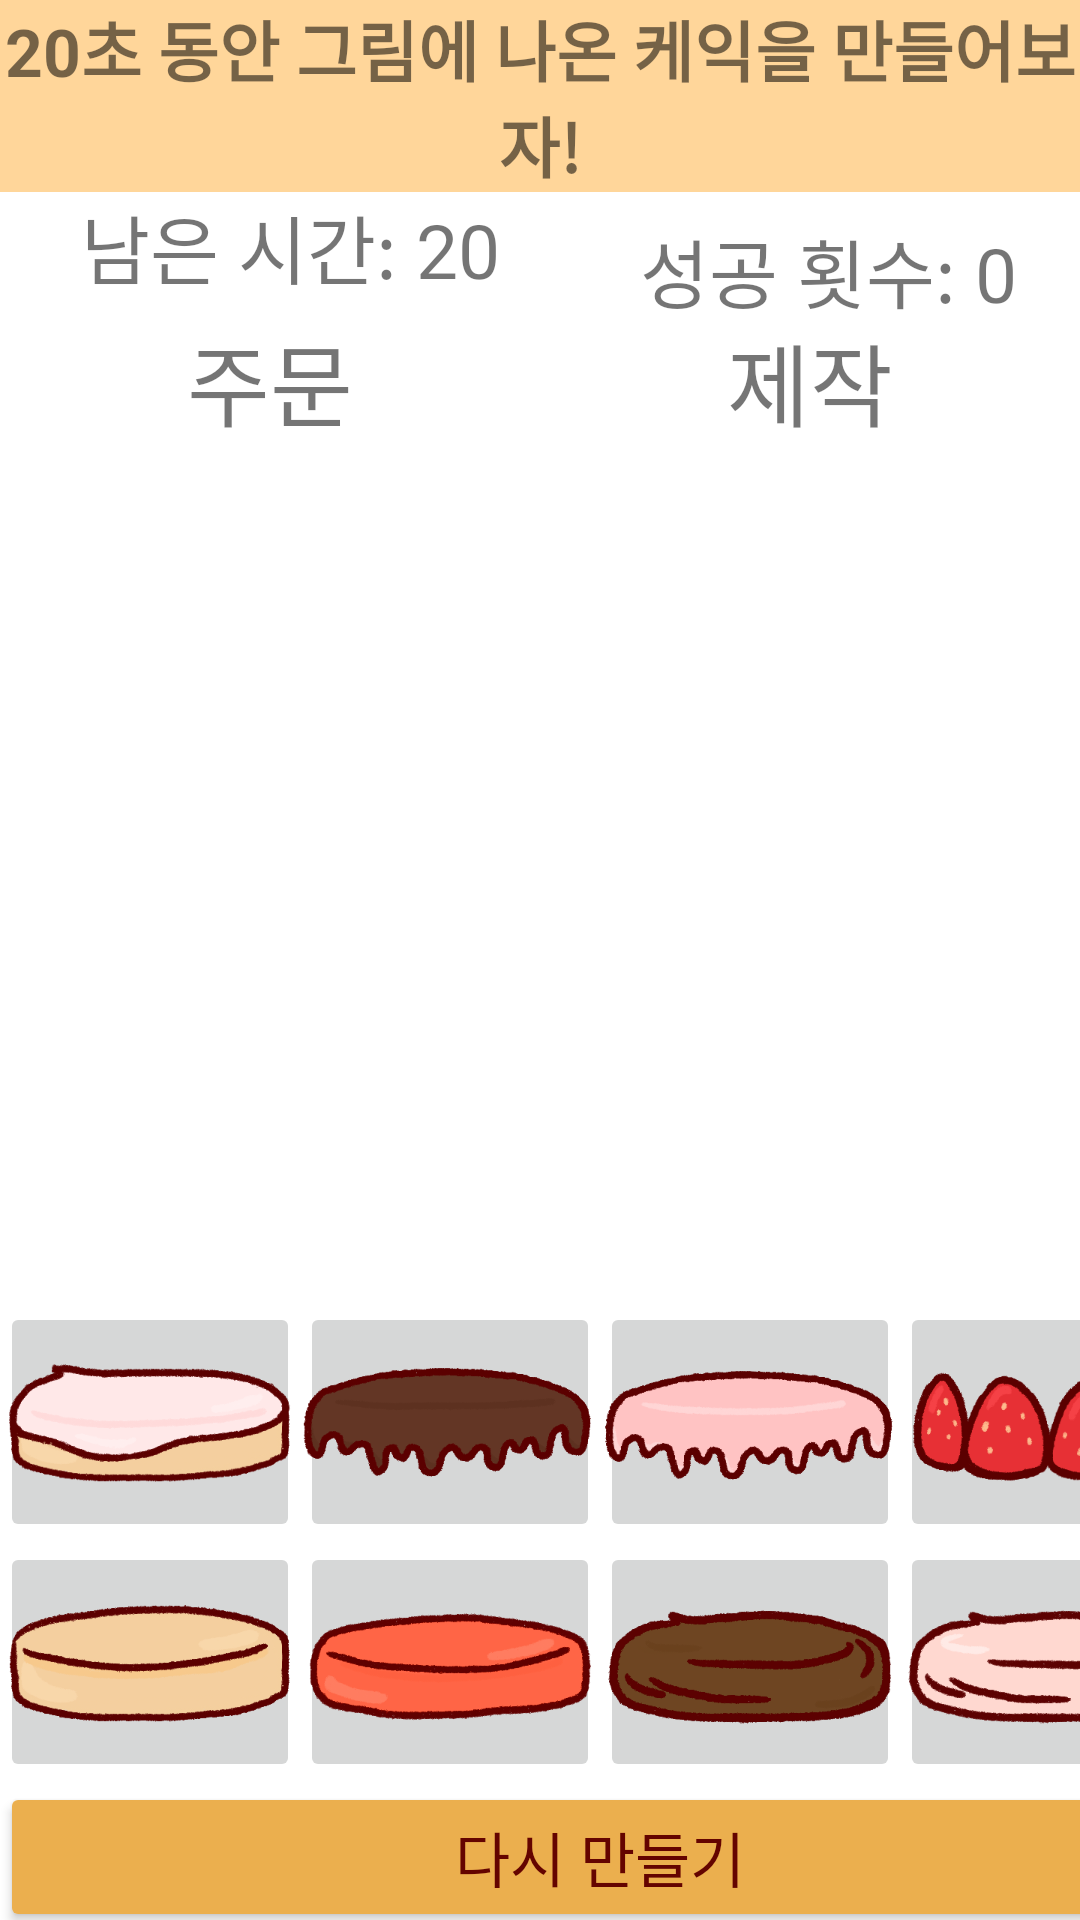

Where icons sit on this 1080x1920 app screen, as [x1, y1, x2, y2]:
bread bottom: [9, 1560, 290, 1764]
csyrup: [303, 1320, 591, 1524]
sjelly: [310, 1560, 591, 1764]
ssyrup: [605, 1320, 893, 1524]
